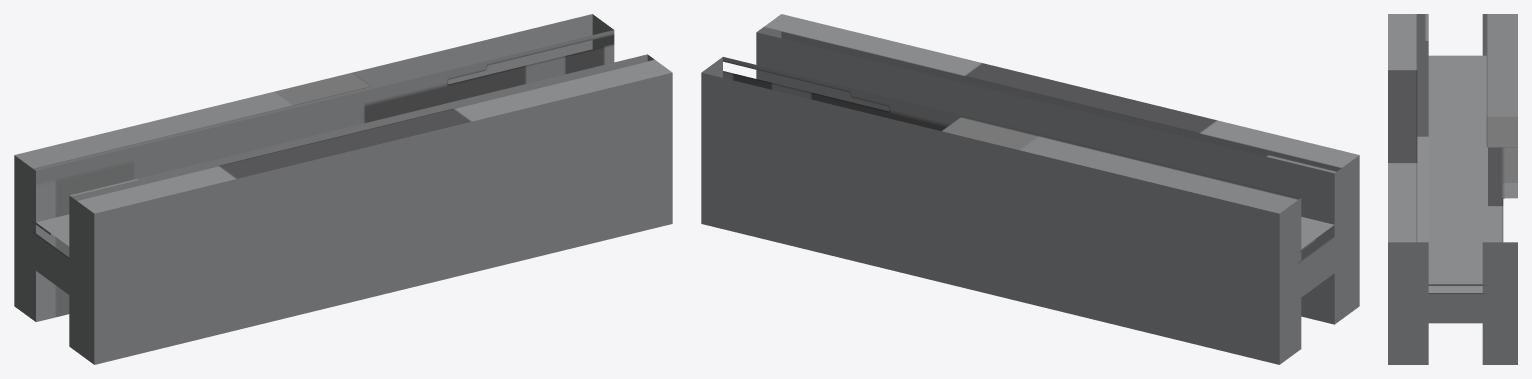
3 renders of one model, left to right at view 1: azimuth 30°, elevation 25°; view 2: azimuth 150°, elevation 25°; view 3: azimuth 270°, elevation 25°, orthographic. The views are drawn at different scales.
Size of the model in its own units: 0.92 by 0.23 by 0.2208.
